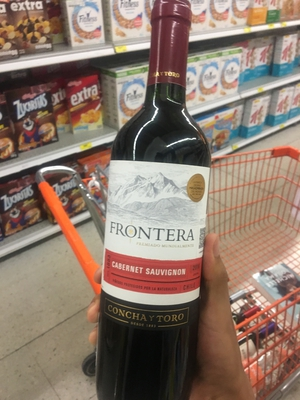frontera cabernet sauvignon: (96, 9, 216, 400)
